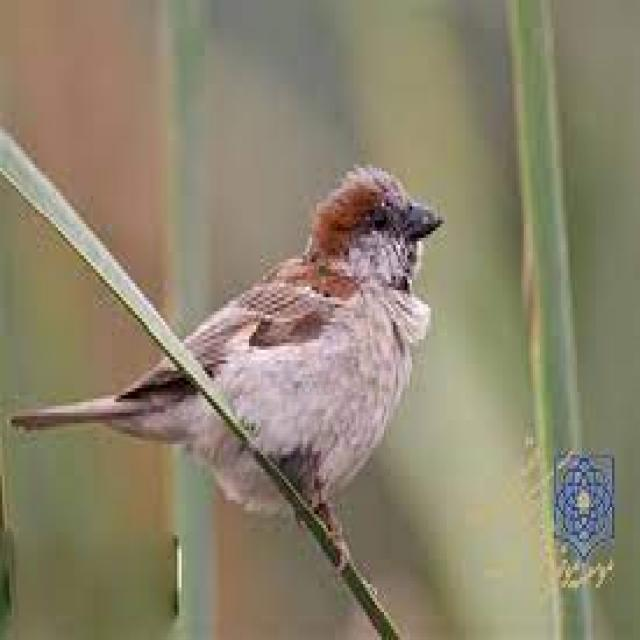bird: (10, 164, 448, 580)
